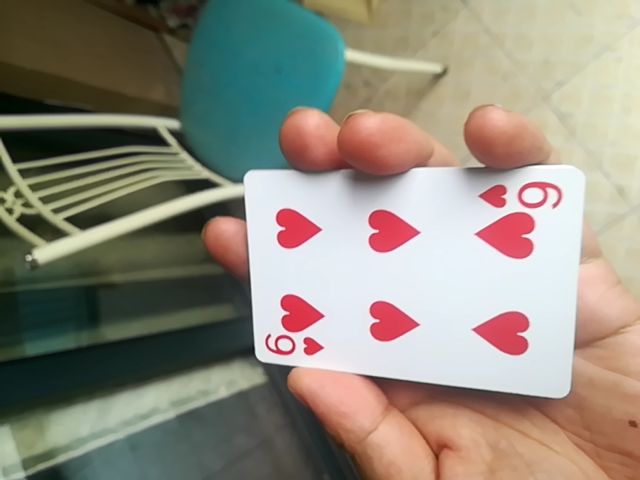hx 6: (231, 158, 594, 389)
